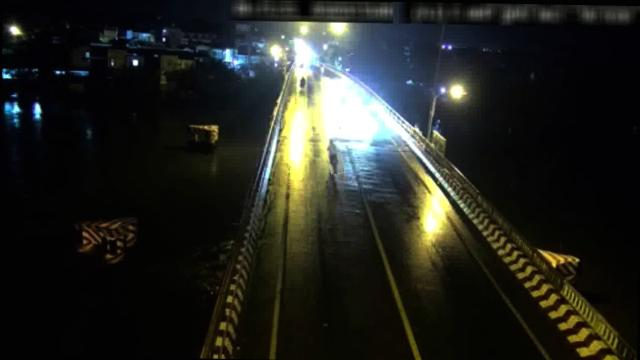Bike: (326, 134, 344, 173)
